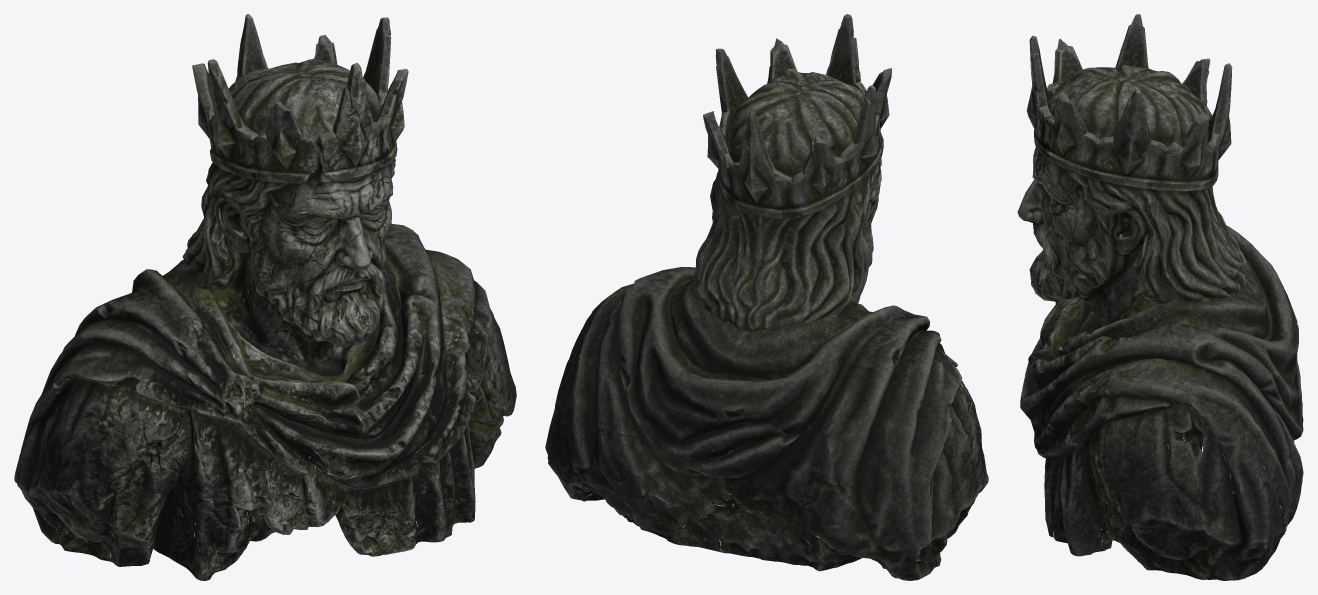
File: colossus.glb
3 renders of one model, left to right at view 1: azimuth 30°, elevation 25°; view 2: azimuth 150°, elevation 25°; view 3: azimuth 270°, elevation 25°, orthographic. The views are drawn at different scales.
Visible parts, largest first — view 1: Mesh_0; view 2: Mesh_0; view 3: Mesh_0.
Boxes of the visible parts, x1,y1,x2,y2 form: Mesh_0: [14, 14, 516, 580]; Mesh_0: [545, 14, 988, 580]; Mesh_0: [1017, 14, 1303, 580].
Size of the model in its own units: 7.93 by 8.48 by 4.81.
1 material, 1 textured.
